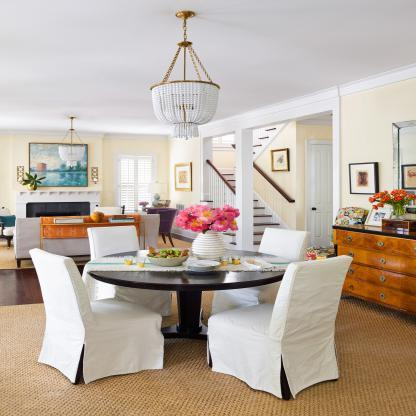chair: (199, 254, 358, 401), (27, 240, 172, 389), (79, 219, 151, 280), (249, 217, 314, 264), (153, 206, 192, 249)
door: (307, 147, 338, 251)
light: (148, 11, 226, 150), (56, 118, 88, 172), (89, 165, 101, 189), (15, 164, 26, 187)
sofa: (11, 214, 158, 268)
table: (85, 240, 309, 362), (0, 213, 14, 250)
